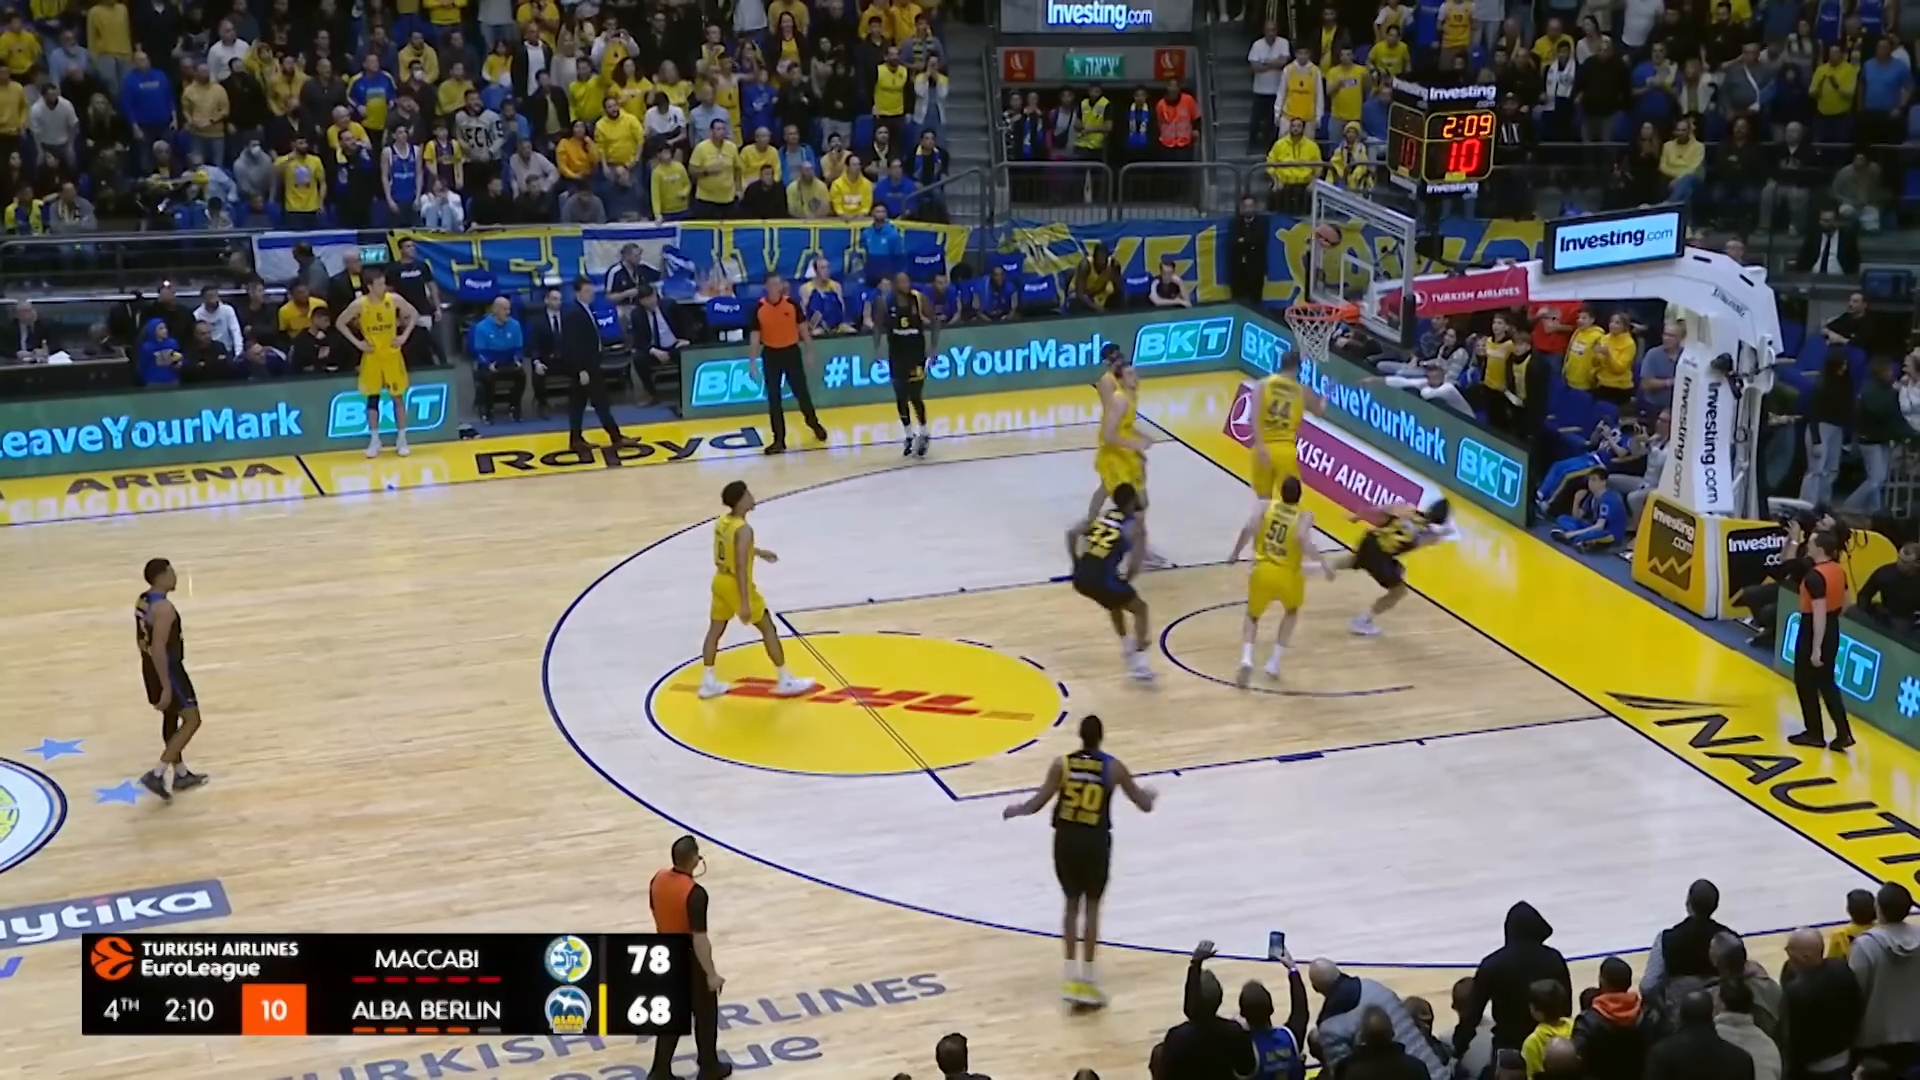ball: (1312, 219, 1346, 251)
net: (1284, 301, 1341, 365)
